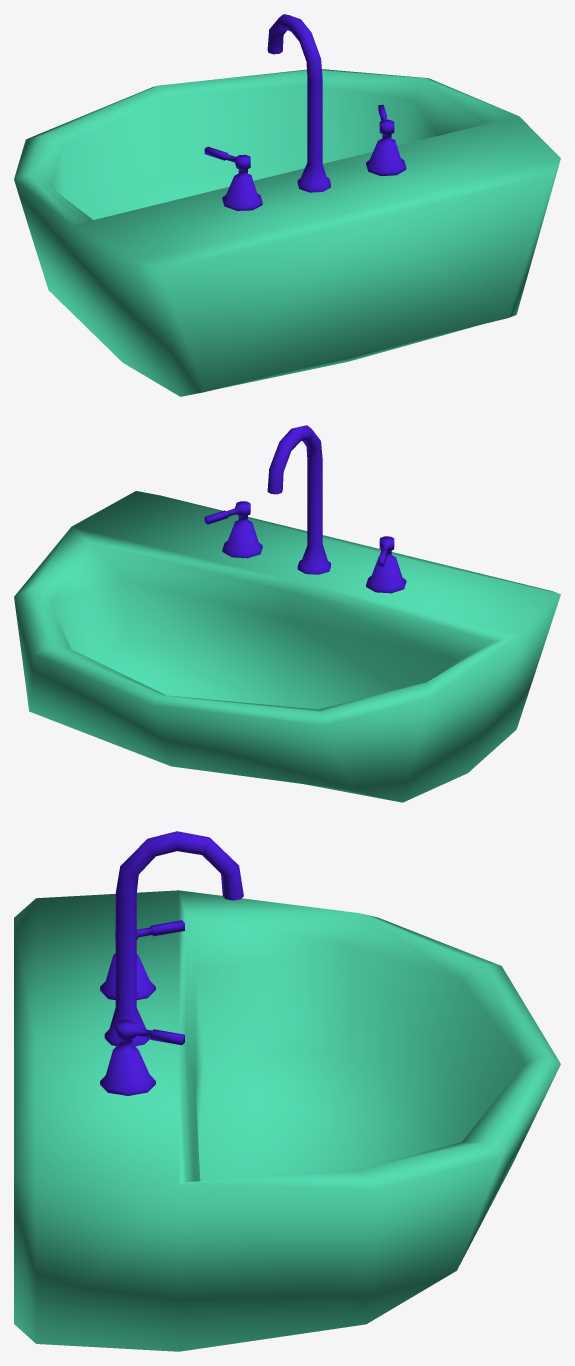
File: Sink_01.fbx
3 views of the same model, one above another, from view 1: azimuth 30°, elevation 25°; view 2: azimuth 150°, elevation 25°; view 3: azimuth 270°, elevation 25° (orthographic). The views are drawn at different scales.
Parts seen in each view (by area): view 1: Cylinder.001; view 2: Cylinder.001; view 3: Cylinder.001.
Part boxes in pixels (box(x1,y1,x2,y2)): Cylinder.001: box(14, 14, 560, 396); Cylinder.001: box(14, 425, 560, 802); Cylinder.001: box(14, 831, 560, 1351).
Bounding box in the file's own units: 890 × 581 × 700.
